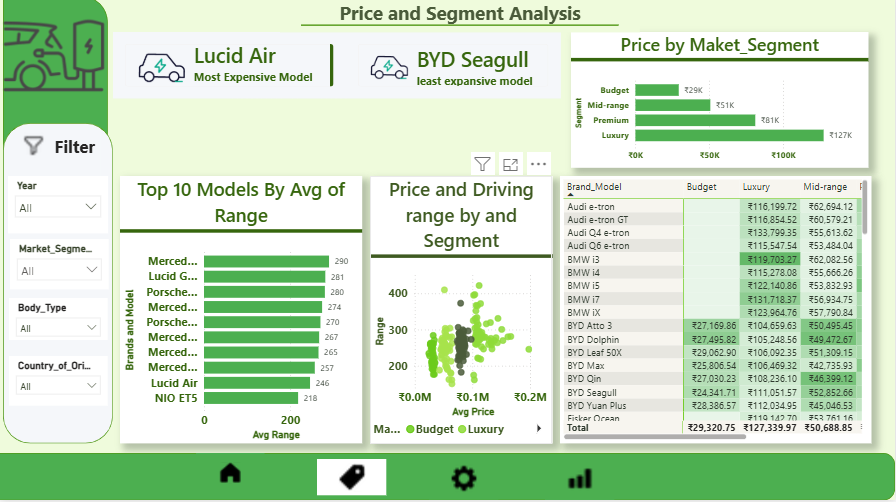

What the dashboard file says about the page in this screenshot:
{"tool":"powerbi","page":{"name":"Pricing & Segment Analysis","canvas":[1280,720],"ordinal":1},"visuals":[{"type":"clusteredBarChart","title":"Top 10 Models By Avg of Range","fields":{"Category":["ev_market_2026 (1).Brand_Model"],"Y":["ev_market_2026 (1).avg Range"]},"box":[172.8,257.8,345.6,381.6],"z":0},{"type":"barChart","title":" Price by Maket_Segment","fields":{"Category":["ev_market_2026 (1).market_segment"],"Y":["Avg(ev_market_2026 (1).price)"]},"box":[816.5,51.8,424.8,194.4],"z":1000},{"type":"scatterChart","title":"Price and Driving range by and Segment","fields":{"Series":["ev_market_2026 (1).market_segment"],"Category":["ev_market_2026 (1).Brand_Model"],"X":["Avg(ev_market_2026 (1).price)"],"Y":["ev_market_2026 (1).range_miles"]},"box":[529.9,257.8,260.6,381.6],"z":2000},{"type":"pivotTable","fields":{"Rows":["ev_market_2026 (1).Brand_Model"],"Columns":["ev_market_2026 (1).market_segment"],"Values":["Avg(ev_market_2026 (1).price)"]},"box":[802.1,257.8,445,381.6],"z":3000},{"type":"cardVisual","fields":{"Data":["ev_market_2026 (1).Most Expensive Model"]},"box":[162.7,51.8,332.6,95],"z":4000},{"type":"cardVisual","fields":{"Data":["ev_market_2026 (1).least expansive model"]},"box":[495.4,51.8,306.7,95],"z":5000},{"type":"shape","box":[0,652.3,1280.2,67.7],"z":6000},{"type":"actionButton","box":[453.6,661,99.4,51.8],"z":7000},{"type":"actionButton","box":[280.8,652.3,97.9,56.2],"z":8000},{"type":"actionButton","box":[614.9,656.6,99.4,63.4],"z":9000},{"type":"actionButton","box":[780.5,656.6,99.4,63.4],"z":10000},{"type":"textbox","box":[401.8,0,514.1,51.8],"z":11000},{"type":"shape","box":[5.8,0,149.8,604.8],"z":12000},{"type":"actionButton","box":[0,0,157,171.4],"z":13000},{"type":"shape","box":[5.8,181.4,157,457.9],"z":14000},{"type":"actionButton","box":[24.5,181.4,50.4,64.8],"z":15000},{"type":"textbox","box":[74.9,193,70.6,64.8],"z":16000},{"type":"slicer","fields":{"Values":["ev_market_2026 (1).year"]},"box":[13,257.8,142.6,82.1],"z":17000},{"type":"slicer","fields":{"Values":["ev_market_2026 (1).market_segment"]},"box":[15.8,347,141.1,72],"z":18000},{"type":"slicer","fields":{"Values":["ev_market_2026 (1).body_type"]},"box":[14.4,432,141.1,60.5],"z":19000},{"type":"slicer","fields":{"Values":["ev_market_2026 (1).country_of_origin"]},"box":[14.4,514.1,141.1,70.6],"z":20000},{"type":"shape","box":[432,14.4,453.6,54.7],"z":20001}]}

Visuals, with their boxes in screenshot pixels (x1, y1, x2, y2), scaled from the page's 1280x720 canvas onto the 896x502 screenshot:
"Top 10 Models By Avg of Range" clusteredBarChart: (121,180,363,446)
" Price by Maket_Segment" barChart: (572,36,869,172)
"Price and Driving range by and Segment" scatterChart: (371,180,553,446)
pivotTable - ev_market_2026 (1).Brand_Model x ev_market_2026 (1).market_segment: (561,180,873,446)
cardVisual - ev_market_2026 (1).Most Expensive Model: (114,36,347,102)
cardVisual - ev_market_2026 (1).least expansive model: (347,36,561,102)
shape: (0,455,895,501)
actionButton: (318,461,387,497)
actionButton: (197,455,265,494)
actionButton: (430,458,500,501)
actionButton: (546,458,616,501)
textbox: (281,0,641,36)
shape: (4,0,109,422)
actionButton: (0,0,110,120)
shape: (4,126,114,446)
actionButton: (17,126,52,172)
textbox: (52,135,102,180)
slicer - ev_market_2026 (1).year: (9,180,109,237)
slicer - ev_market_2026 (1).market_segment: (11,242,110,292)
slicer - ev_market_2026 (1).body_type: (10,301,109,343)
slicer - ev_market_2026 (1).country_of_origin: (10,358,109,408)
shape: (302,10,620,48)
